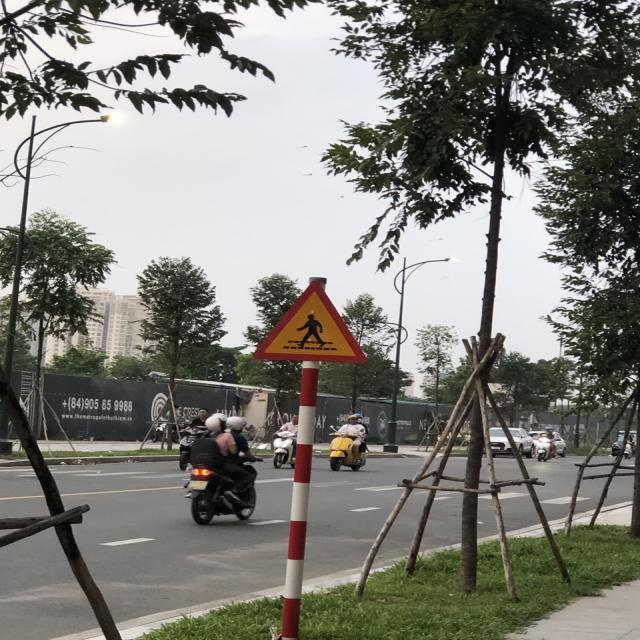Bien bao duong nguoi di bo cat ngang: (234, 270, 379, 370)
